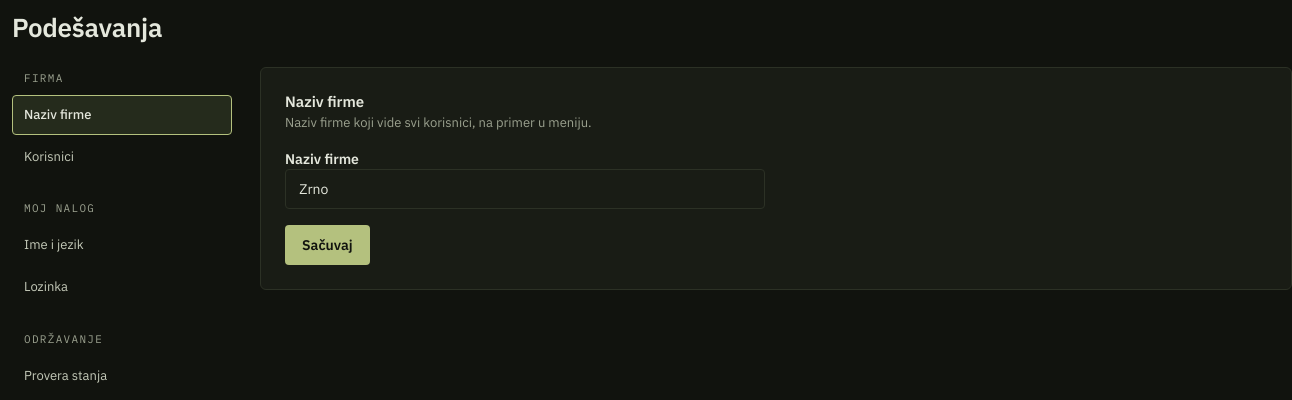
Test: SettingsPage › SaveCompany_NewName_SendsItAndConfirms
The width and height of the screenshot is (1292, 400).
Replace the text in the field labelled "Naziv firme" with "Zrno d.o.o." at [525, 189], box [285,169,765,209]
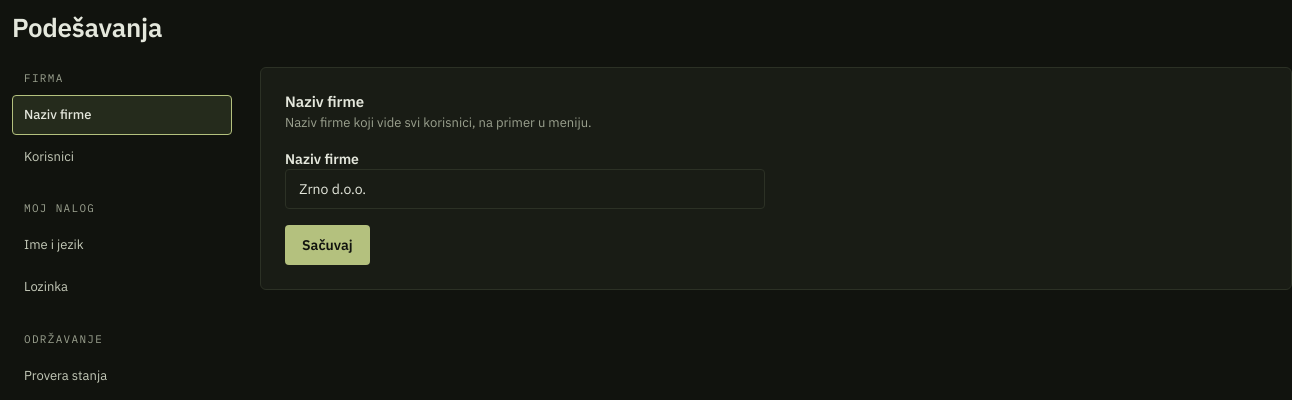
Click the button "Sačuvaj" at [327, 245], box [285,225,370,265]
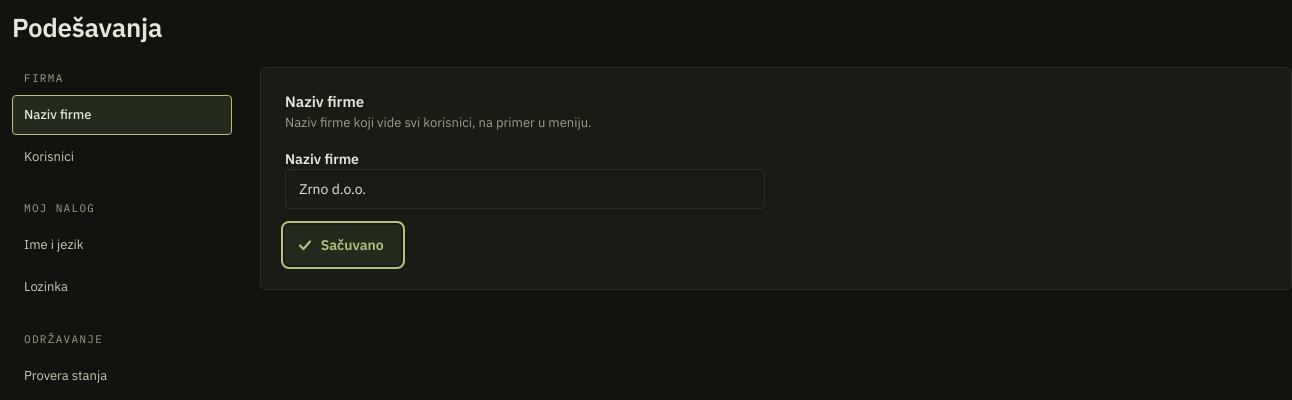
Expected: the text "Sačuvano" is shown, [321,238,384,252]
